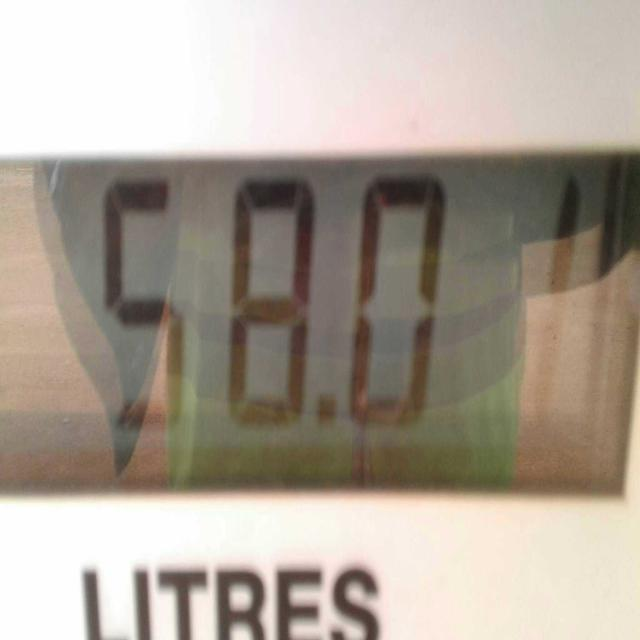.: (312, 395, 346, 454)
0: (346, 165, 453, 448)
1: (532, 175, 588, 450)
5: (94, 182, 184, 441)
8: (226, 176, 311, 436)
